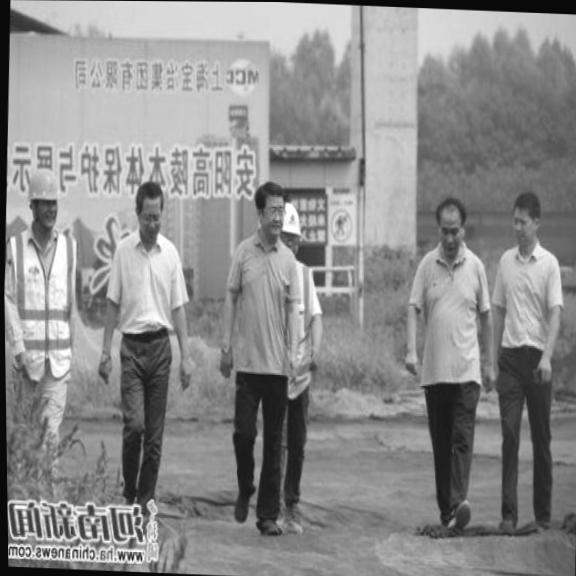no_safety_vest: (401, 245, 496, 397), (217, 234, 304, 382), (101, 229, 193, 345), (489, 237, 566, 353)
safety_vest: (3, 223, 82, 379)
